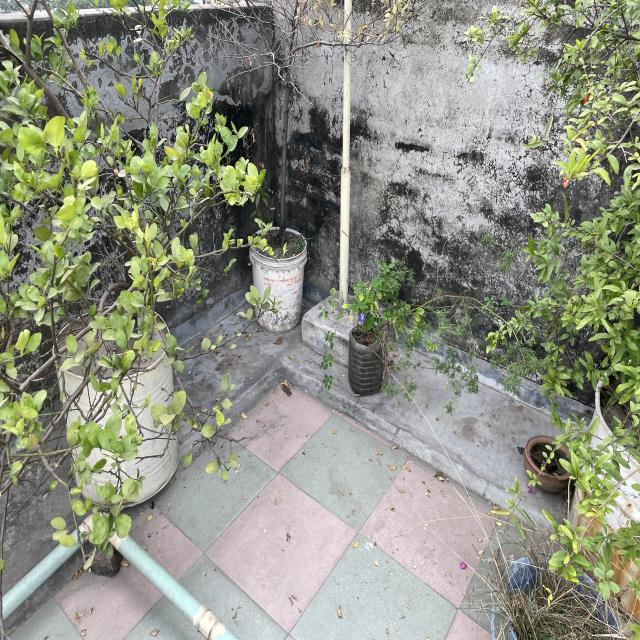Breeding Place: (55, 309, 178, 513), (574, 355, 640, 577), (246, 224, 304, 334), (518, 434, 573, 488), (352, 323, 386, 400)
